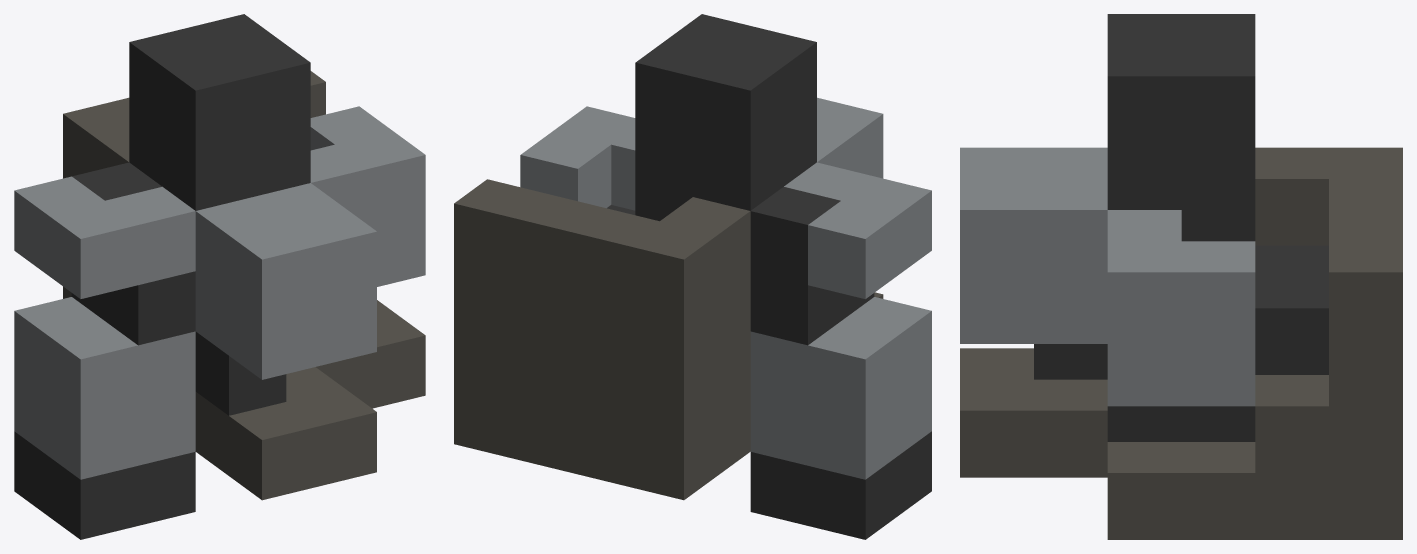
Rendered from Mecha01_left_thigh.obj.
3 renders of one model, left to right at view 1: azimuth 30°, elevation 25°; view 2: azimuth 150°, elevation 25°; view 3: azimuth 270°, elevation 25°, orthographic. The views are drawn at different scales.
Size of the model in its own units: 0.6 by 0.7 by 0.6.
Materials: 1 (1 with a texture image).
